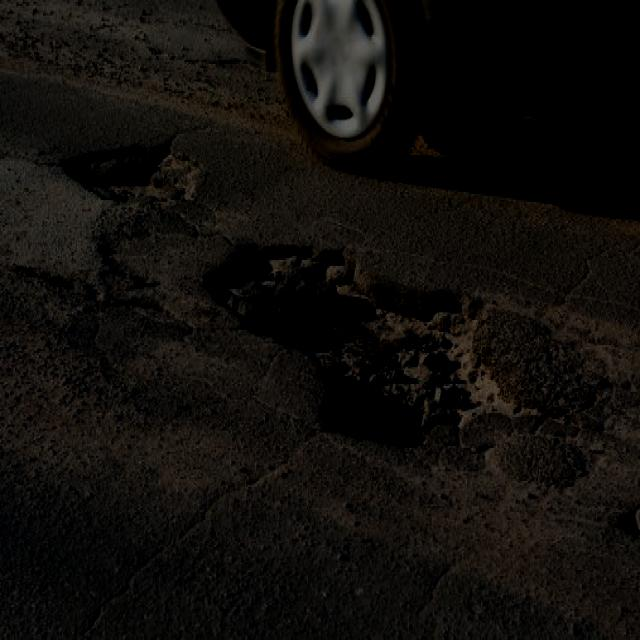Pothole: (60, 100, 583, 477)
